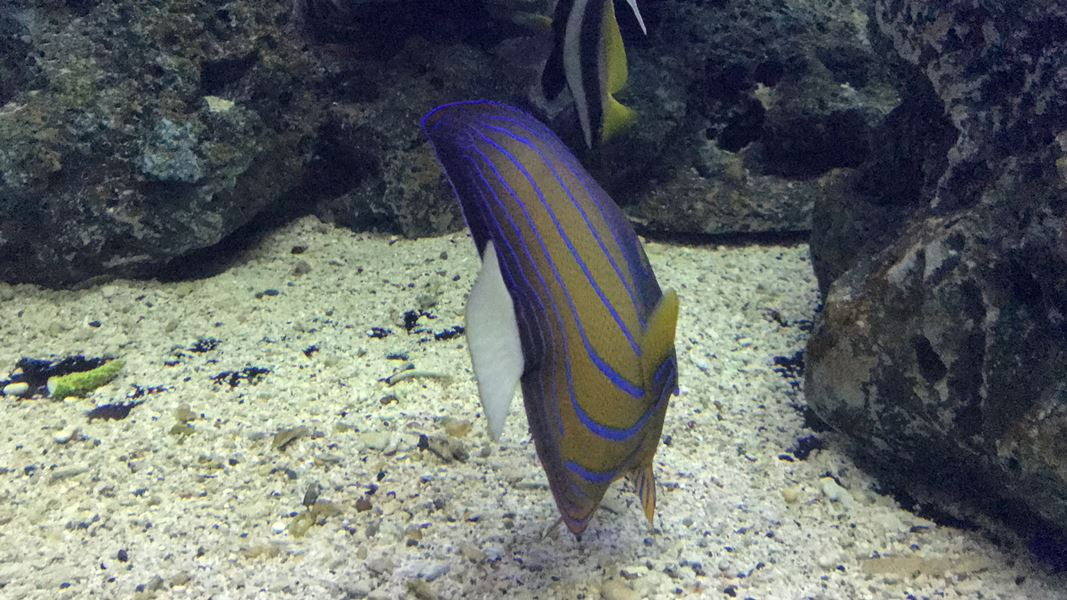Blue ring angelfish: (401, 81, 711, 561)
